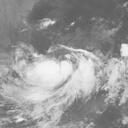cyclone: (27, 57, 86, 106)
